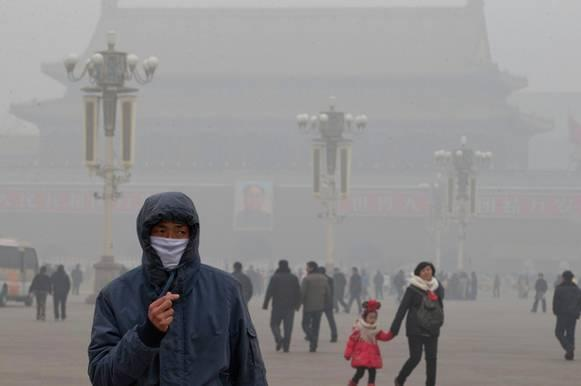bus: (1, 239, 42, 307)
person: (86, 190, 267, 386), (389, 261, 445, 386), (344, 300, 392, 386), (261, 258, 301, 353), (294, 260, 330, 353), (303, 266, 338, 343), (552, 270, 581, 361), (223, 262, 254, 339), (27, 265, 52, 321), (48, 264, 70, 321), (343, 266, 363, 314), (329, 267, 349, 314), (530, 272, 548, 313), (392, 269, 411, 300), (358, 267, 371, 303), (372, 269, 385, 302), (70, 263, 83, 296), (448, 273, 460, 300), (458, 272, 468, 300), (440, 272, 450, 299), (469, 271, 478, 300), (518, 273, 528, 298), (491, 274, 501, 298), (436, 270, 445, 296)
